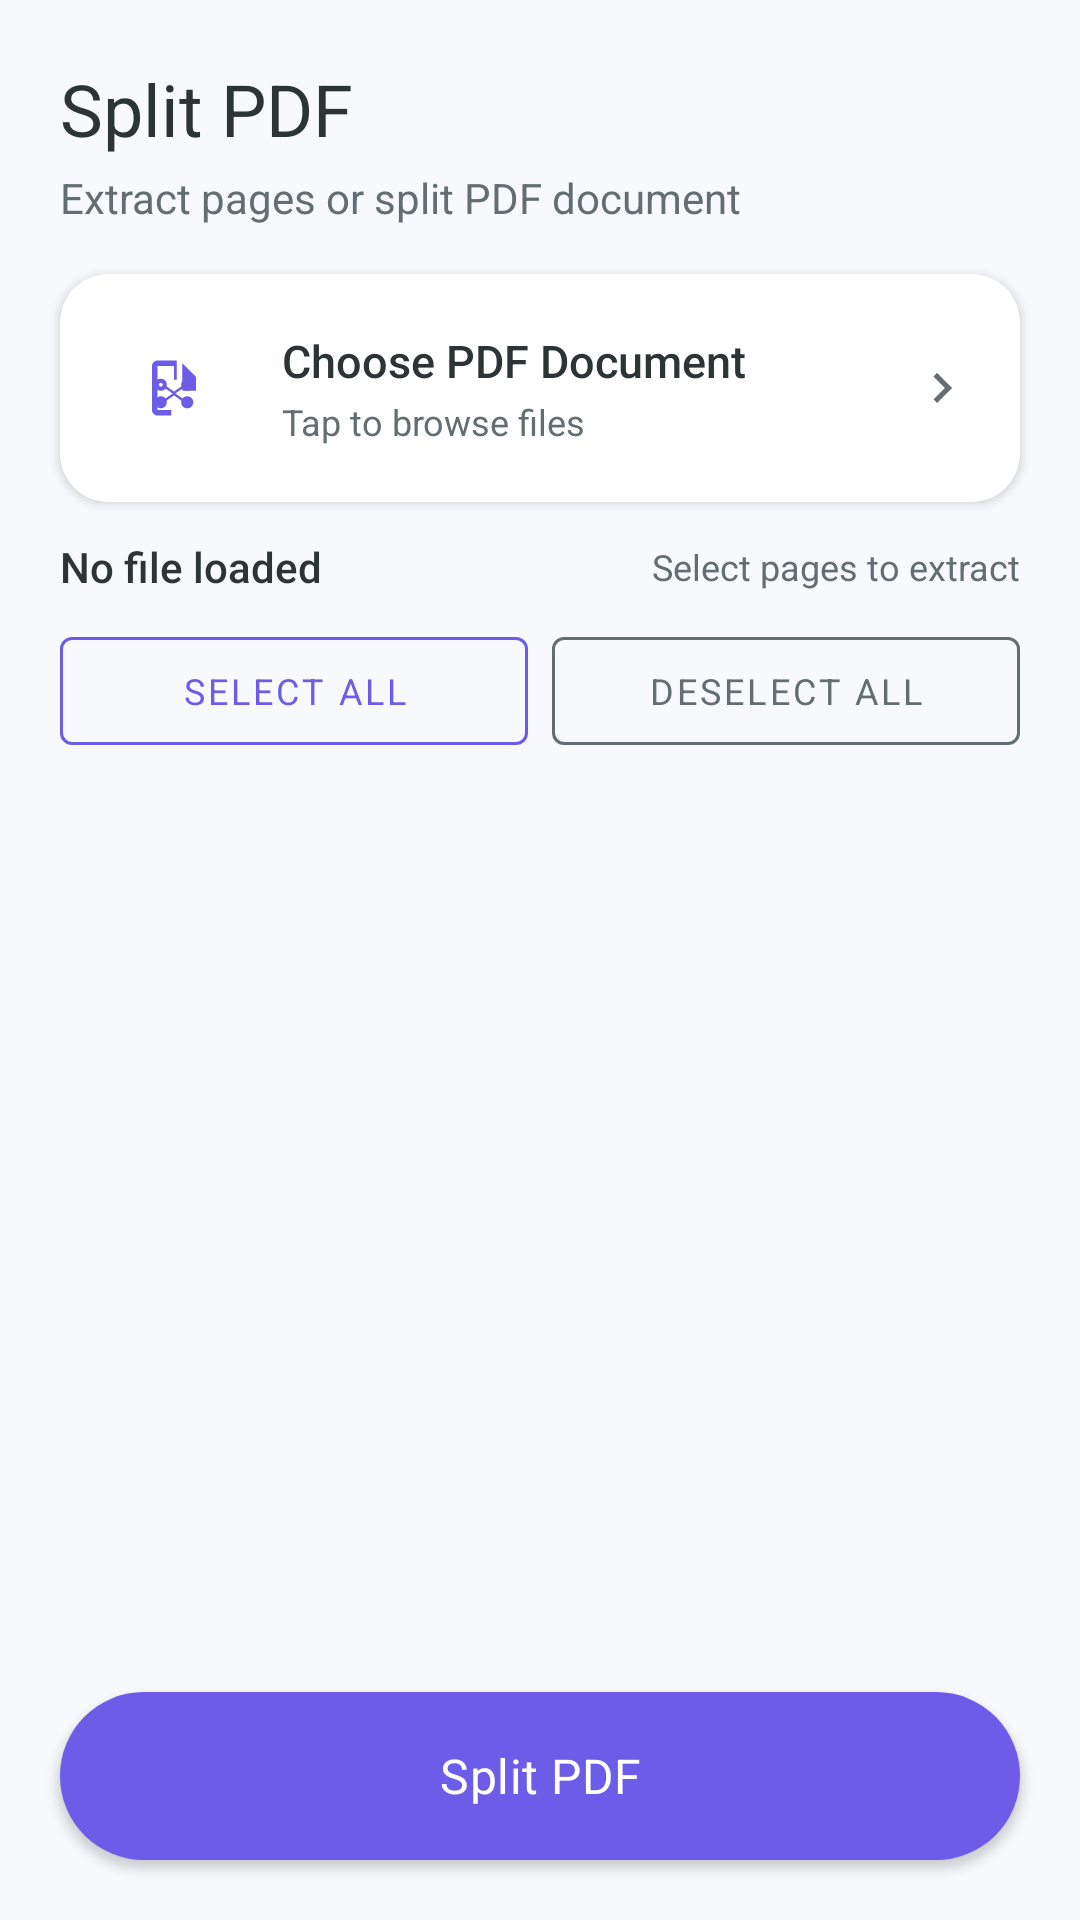

Named icons in this screenshot (1080*1920) and their centers, point (x, y):
chevron right: point (942, 388)
